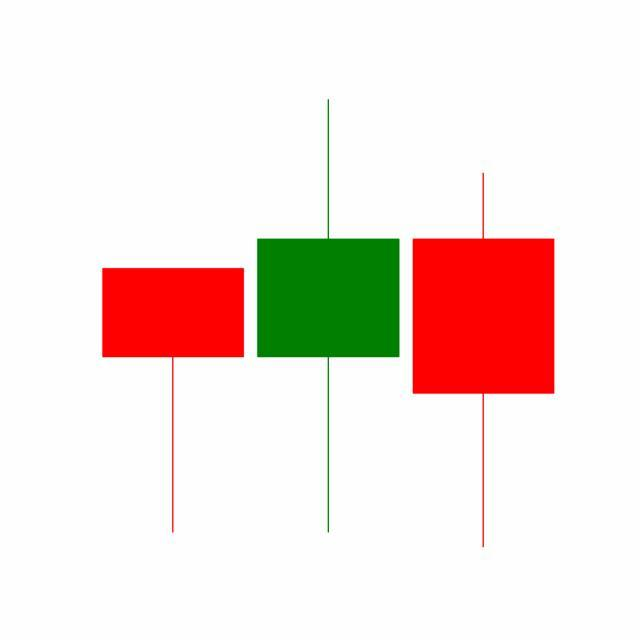Spinning Top: (250, 94, 407, 538)
